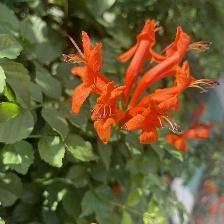honeysuckle: (64, 30, 111, 119)
